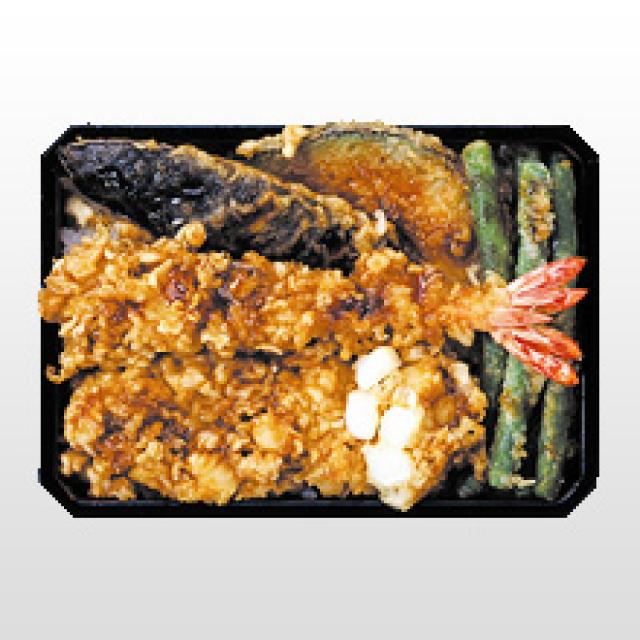熟制海鲜: (0, 102, 640, 532)
